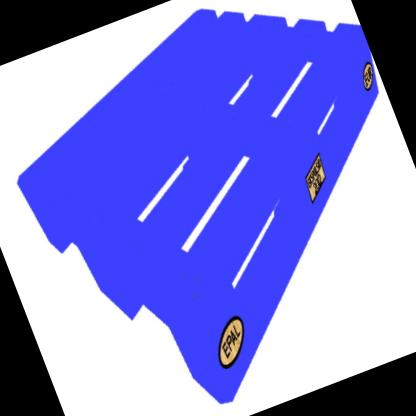BoxFace: (11, 3, 385, 409)
